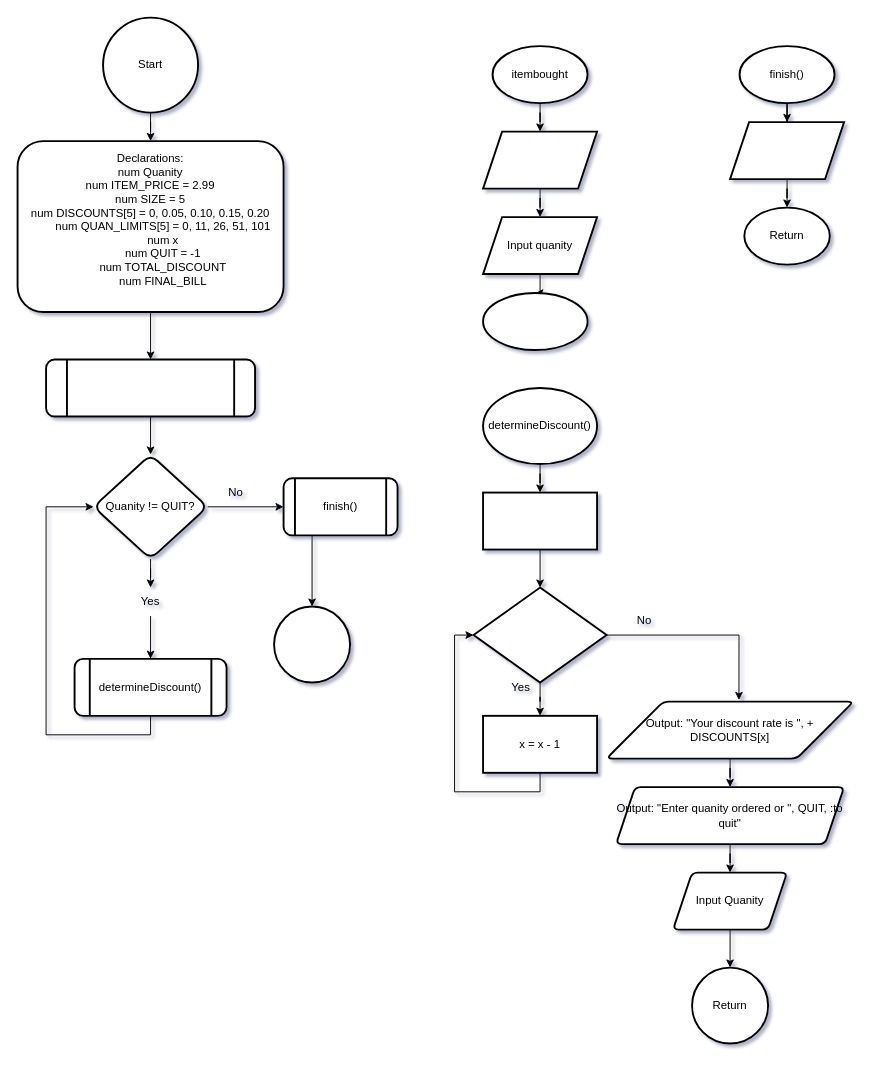
The diagram is 876 pixels wide and 1066 high, and some of its shapes have lost their labels. The centre of each missing label's shape, as x and y in pixels:
itemsbought(): the point at 150,387
Ouput: "Thanks for shopping": the point at 787,150
Output: "Enter quanity ordered or ", QUIT, "to quit": the point at 540,159
quanity < QUAN_LIMITS[x]?: the point at 539,634
Retrun: the point at 535,321
Stop: the point at 312,644
x = SIZE - 1: the point at 540,520
